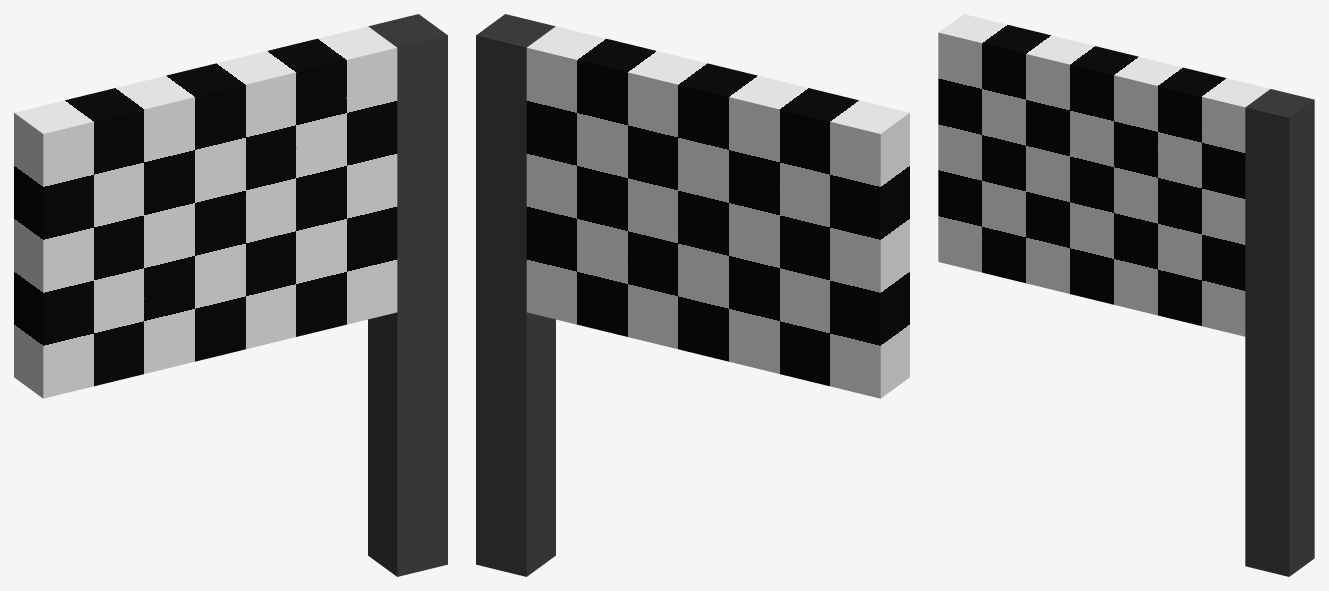
Rendered from flag.gltf.
3 views of the same model, side by side, from view 1: azimuth 30°, elevation 25°; view 2: azimuth 150°, elevation 25°; view 3: azimuth 330°, elevation 25° (orthographic). The views are drawn at different scales.
Visible parts, largest first — view 1: cube (×2); view 2: cube (×2); view 3: cube (×2).
Boxes of the visible parts, <box> form: cube (×2): <box>14,14,447,576</box>; cube (×2): <box>476,14,909,576</box>; cube (×2): <box>938,14,1314,576</box>.
Size of the model in its own units: 0.5 by 0.625 by 0.0625.
2 materials, 2 textured.
